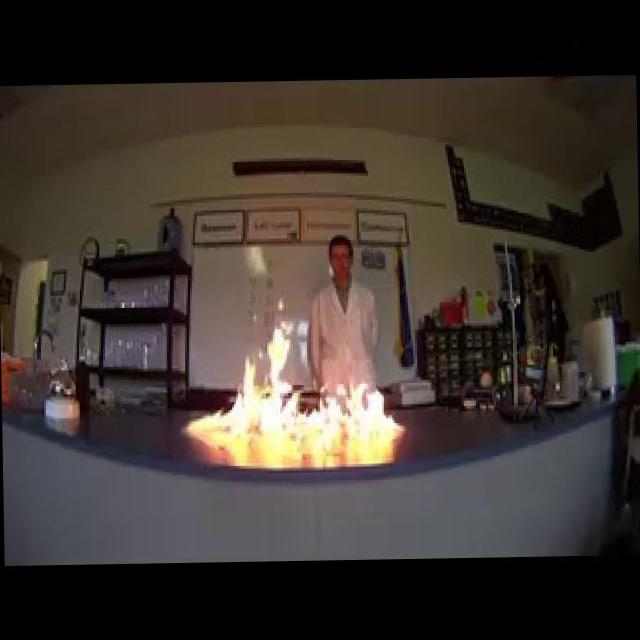Smoke: (180, 314, 412, 444)
